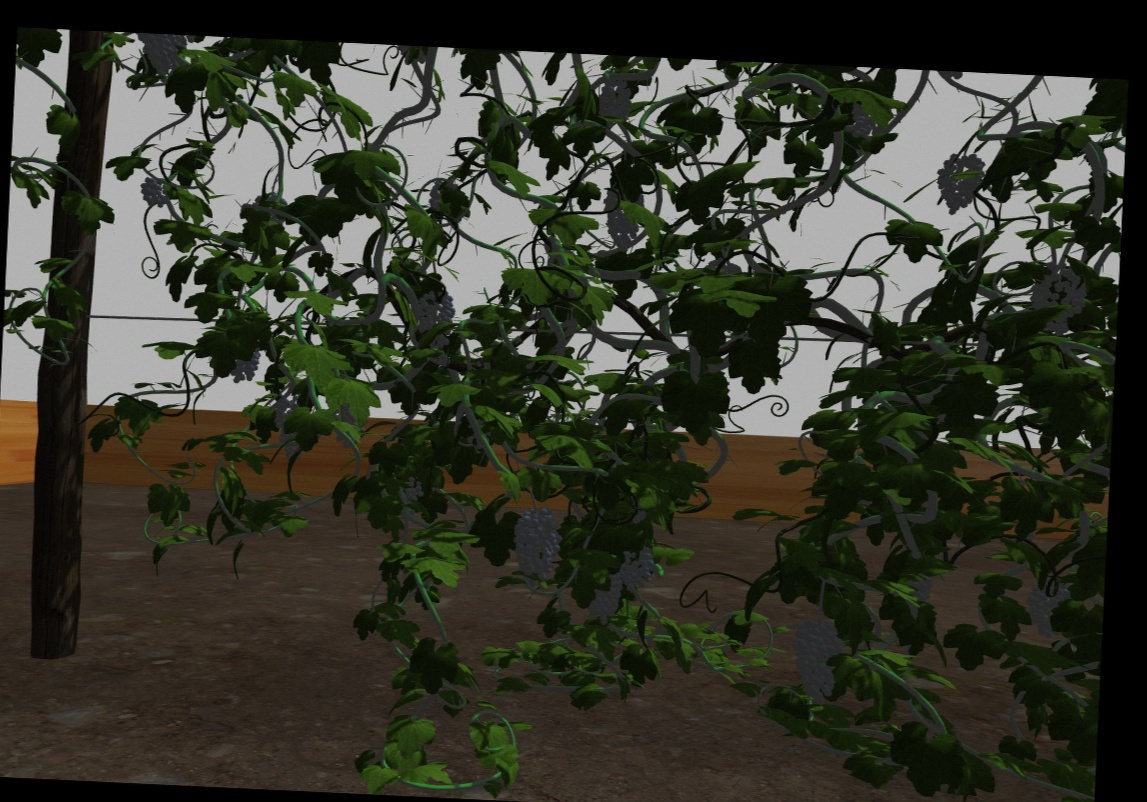grape: (788, 619, 844, 704), (510, 506, 560, 589), (933, 155, 987, 218), (411, 279, 457, 348), (1023, 577, 1073, 639), (1032, 273, 1083, 332), (583, 559, 625, 626), (603, 182, 643, 252), (617, 534, 655, 590), (135, 37, 183, 75), (594, 82, 633, 120), (139, 176, 167, 209)
